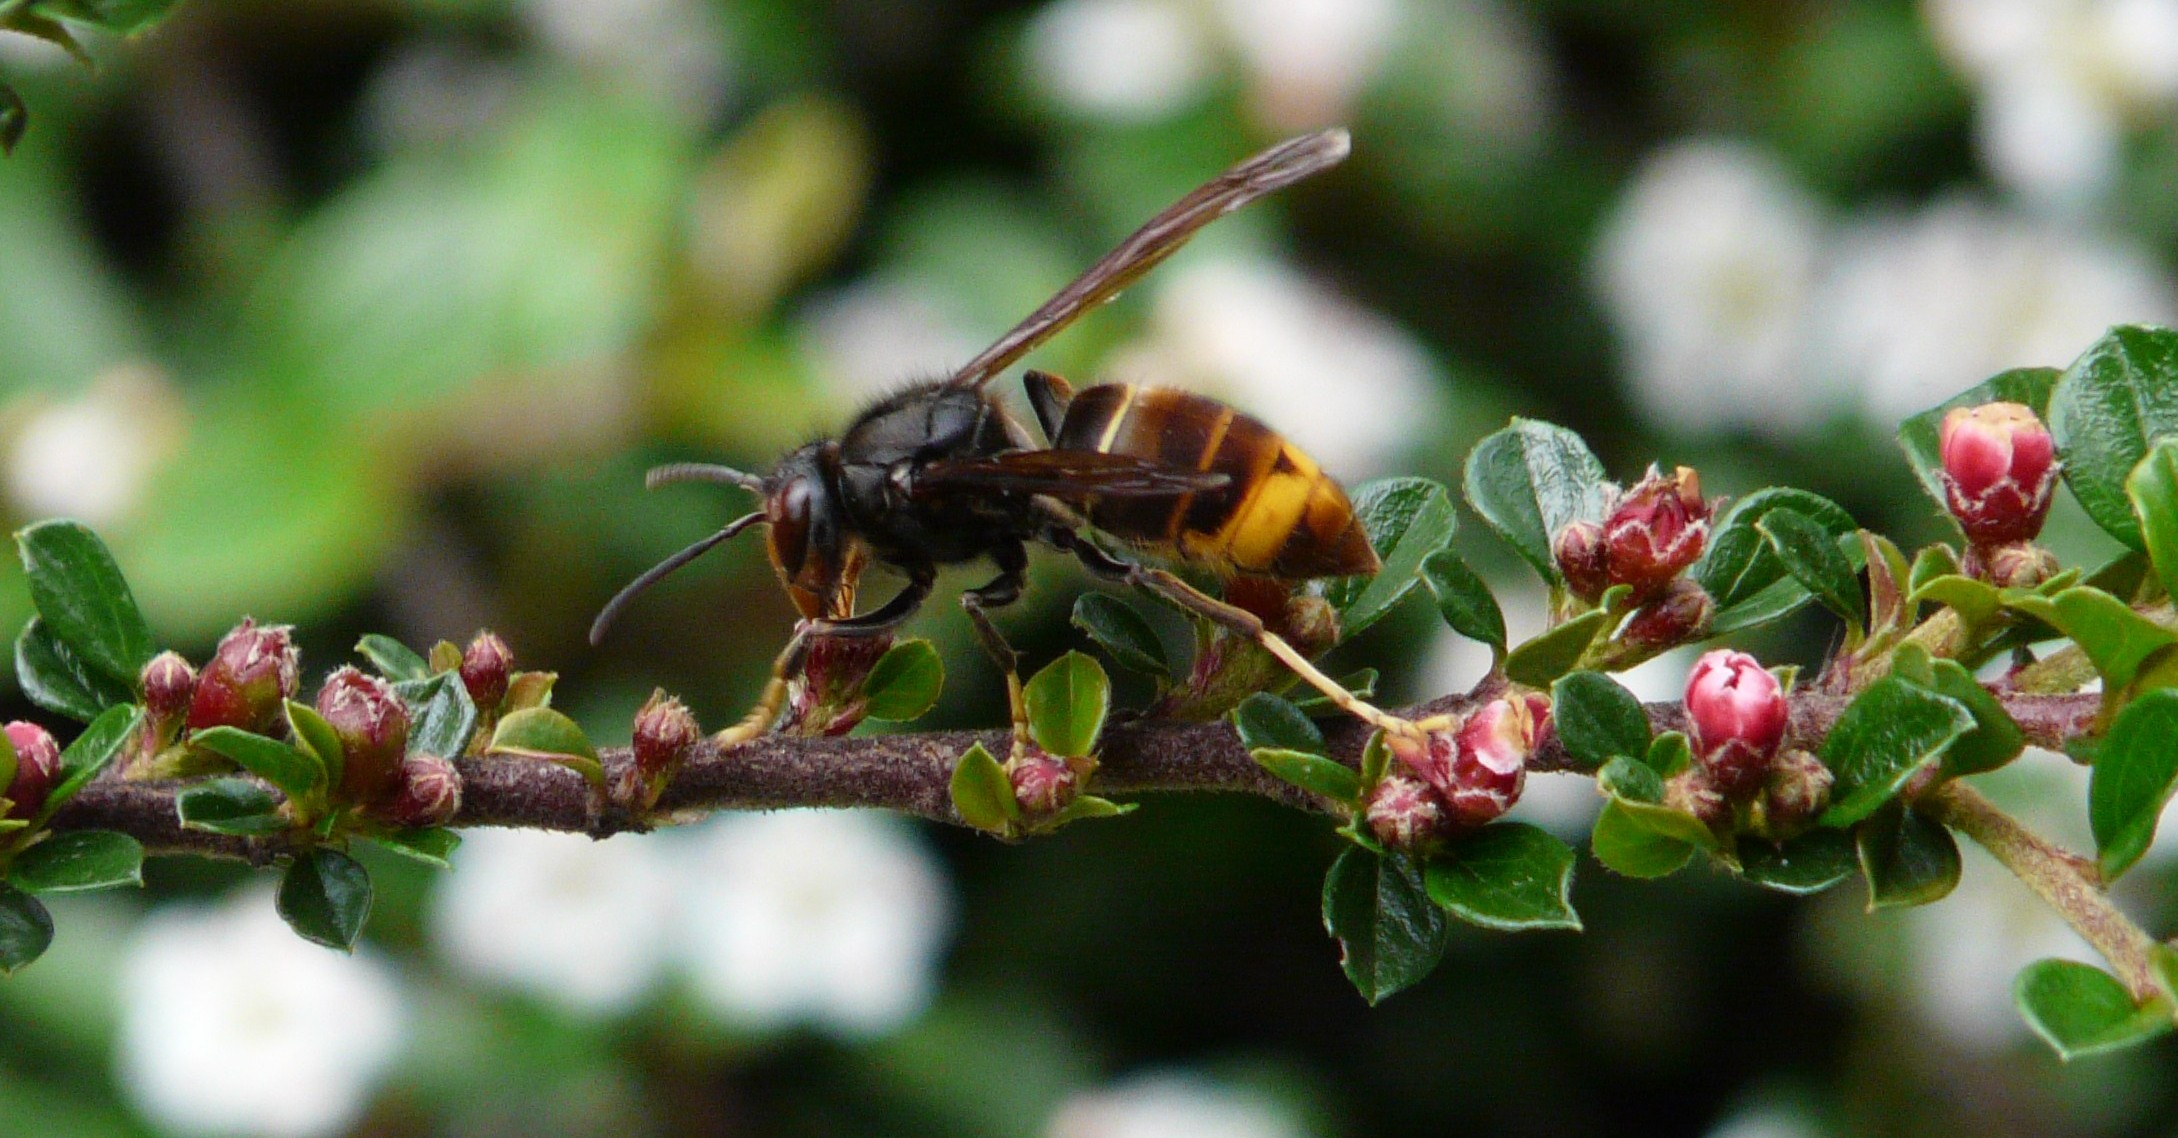hornet: (671, 315, 1376, 710)
